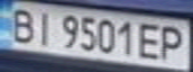0: (93, 16, 118, 55)
1: (115, 18, 139, 57)
5: (75, 14, 100, 52)
9: (54, 11, 81, 51)
B: (3, 5, 39, 44)
E: (136, 20, 163, 61)
I: (30, 8, 57, 47)
P: (157, 22, 190, 63)
